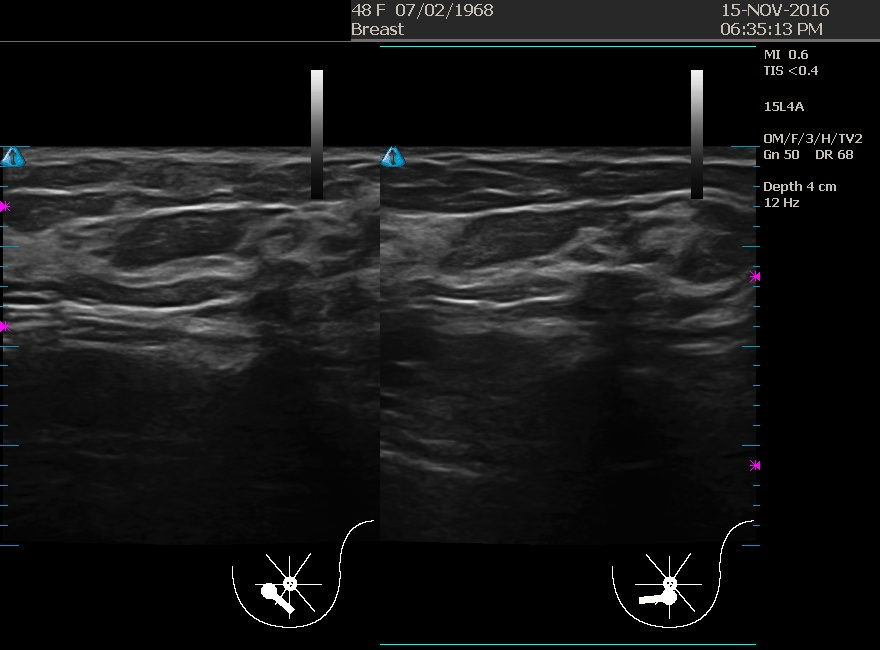BIRADS_3: (94, 151, 294, 351), (430, 153, 630, 353)
